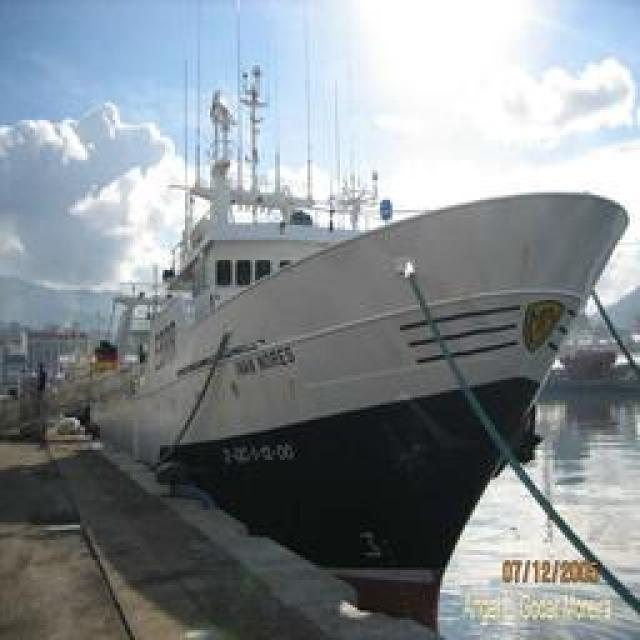CIV_Ship: (101, 160, 629, 588)
